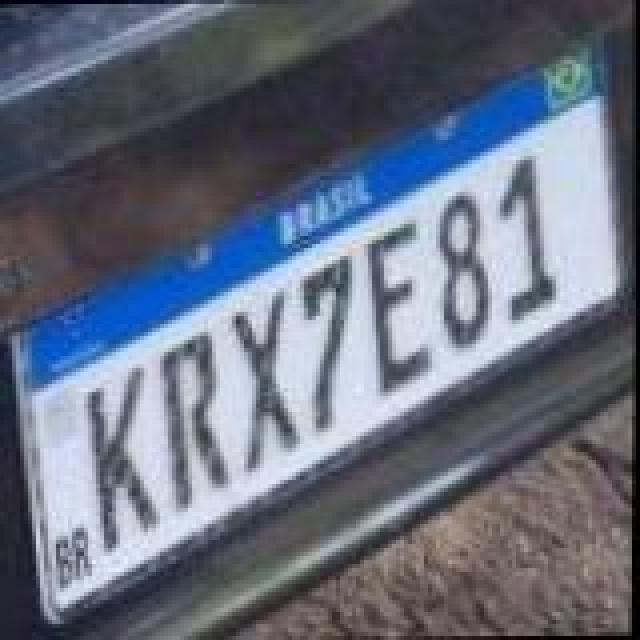1: (496, 152, 560, 320)
7: (296, 252, 360, 436)
8: (434, 190, 494, 350)
E: (364, 218, 436, 402)
K: (84, 364, 164, 556)
R: (156, 326, 240, 510)
X: (230, 288, 310, 480)
